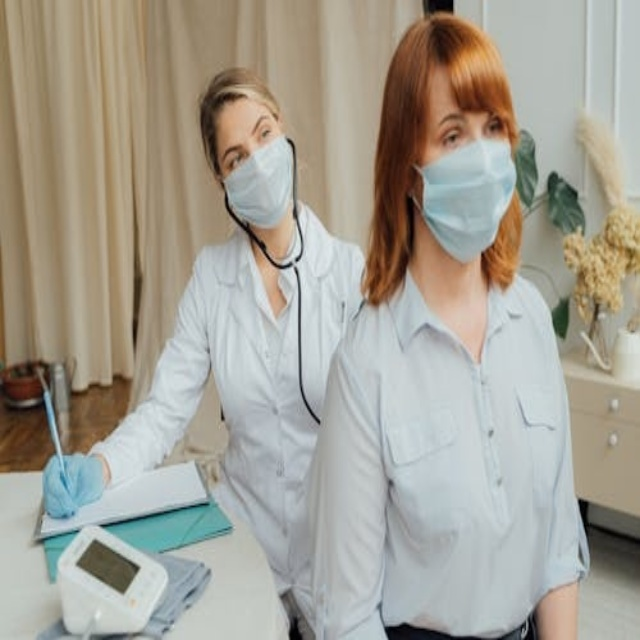Guantes: (42, 453, 105, 520)
Mascara: (409, 134, 516, 262), (222, 133, 295, 228)
Sin_gafas: (424, 102, 503, 146), (220, 108, 276, 167)
